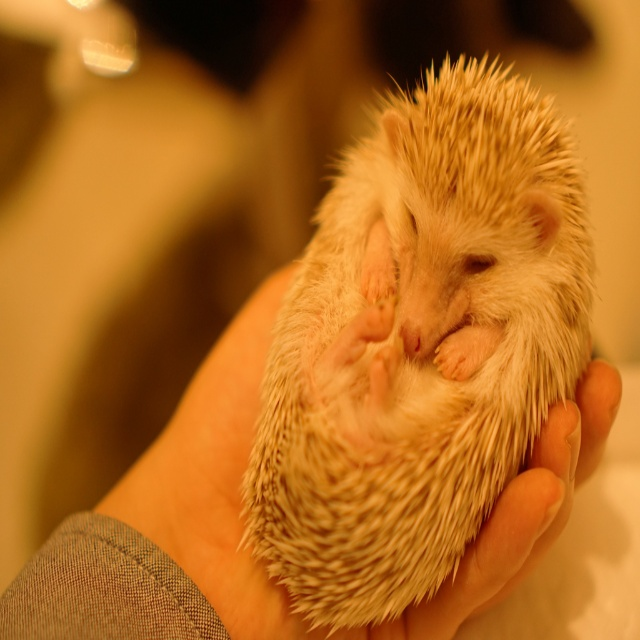Hedgehog: (236, 51, 605, 640)
